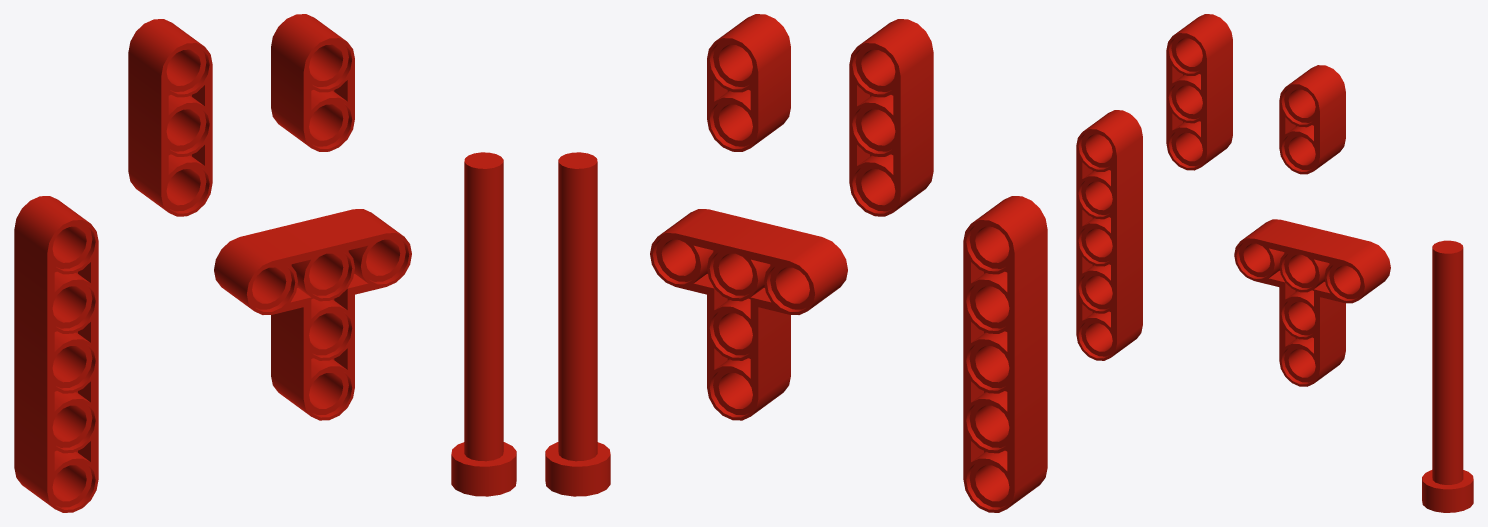
File: Extra Parts 2 for Toy Villen.obj
3 views of the same model, side by side, from view 1: azimuth 30°, elevation 25°; view 2: azimuth 150°, elevation 25°; view 3: azimuth 330°, elevation 25° (orthographic). The views are drawn at different scales.
Parts seen in each view (by area): view 1: Piece000, Piece001, Piece004, Piece002, Piece003; view 2: Piece000, Piece001, Piece004, Piece002, Piece003; view 3: Piece000, Piece001, Piece004, Piece002, Piece003.
Boxes of the visible parts, x1,y1,x2,y2 form: Piece000: (14,196,98,512); Piece001: (214,209,411,420); Piece004: (451,152,516,496); Piece002: (128,19,212,216); Piece003: (271,14,354,151); Piece000: (963,196,1047,512); Piece001: (650,209,847,420); Piece004: (545,152,610,496); Piece002: (849,19,933,216); Piece003: (707,14,790,151); Piece000: (1076,110,1142,360); Piece001: (1234,219,1390,386); Piece004: (1422,240,1473,512); Piece002: (1166,14,1232,170); Piece003: (1279,65,1345,174).
Bounding box in the file's own units: 169 × 177 × 20.
